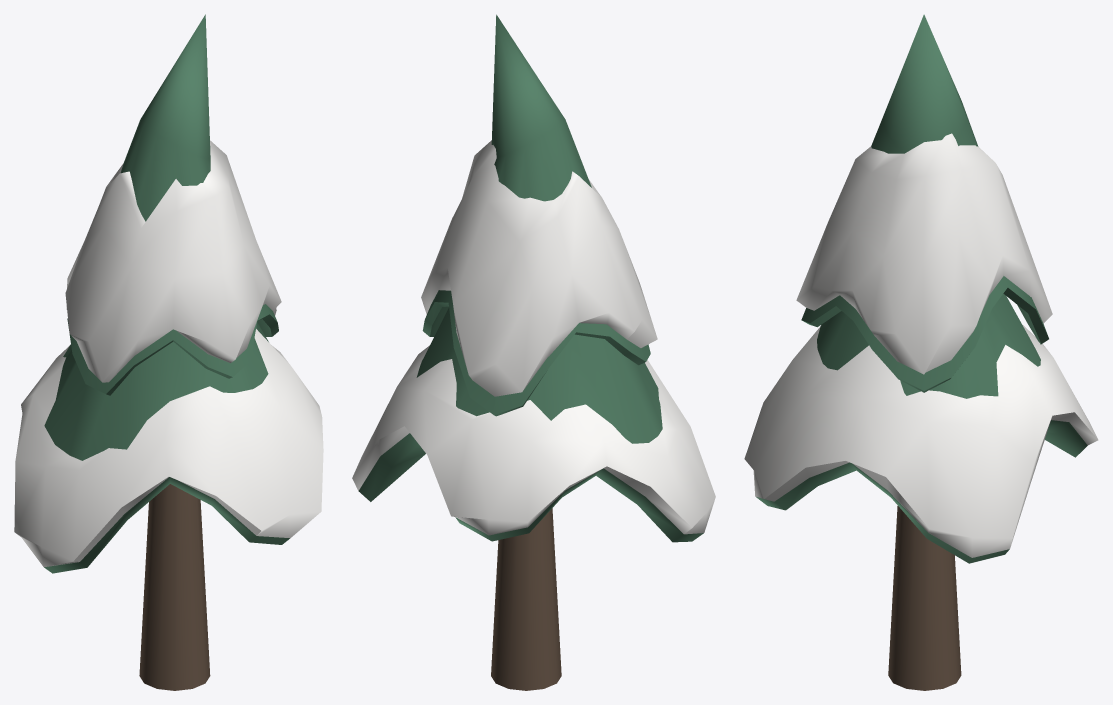
File: Tree_2.glb
3 views of the same model, side by side, from view 1: azimuth 30°, elevation 25°; view 2: azimuth 150°, elevation 25°; view 3: azimuth 270°, elevation 25° (orthographic). The views are drawn at different scales.
Visible parts, largest first — view 1: Tree_2; view 2: Tree_2; view 3: Tree_2.
Part boxes in pixels (x1,y1,x2,y2): Tree_2: [14, 14, 323, 690]; Tree_2: [352, 14, 715, 690]; Tree_2: [744, 14, 1098, 690].
Bounding box in the file's own units: 1.54 × 3.12 × 1.48.
Materials: 1 (1 with a texture image).
